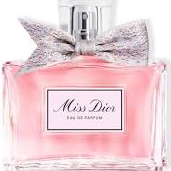dior_miss_dior: (1, 1, 167, 169)
